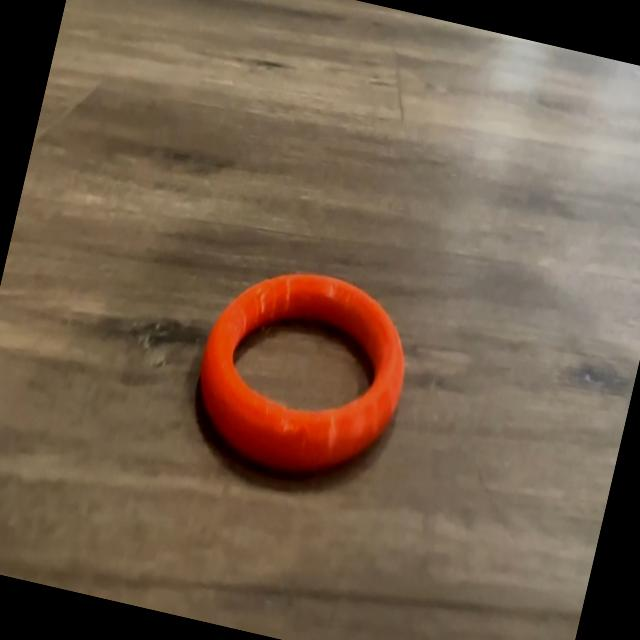note: (181, 250, 424, 489)
